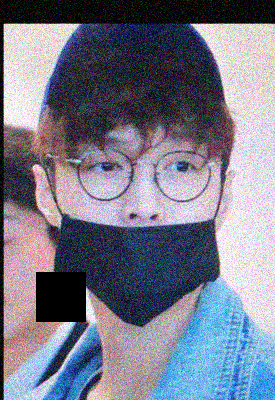mask_weared_incorrect: (51, 130, 221, 327)
